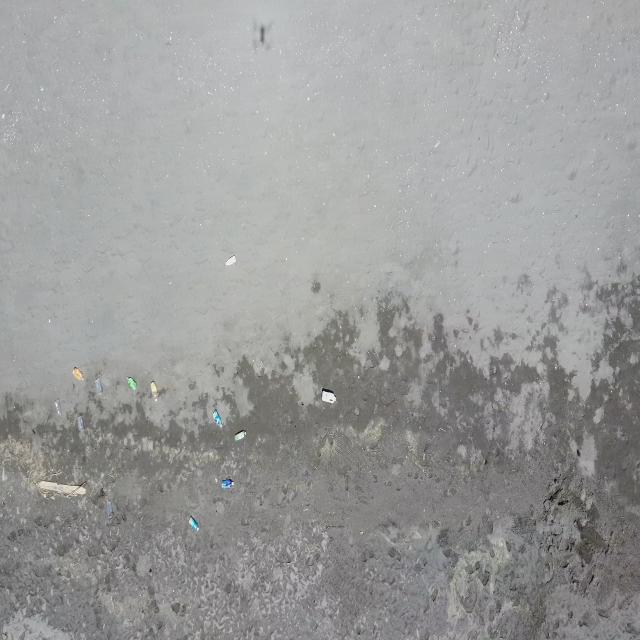plastic-bottle: (321, 387, 337, 404), (212, 409, 223, 429), (150, 380, 159, 403), (224, 252, 237, 267), (72, 365, 84, 381), (125, 375, 136, 392), (188, 516, 199, 532), (221, 478, 234, 491), (234, 428, 247, 441)
takeaway-cup: (76, 414, 85, 432), (54, 398, 62, 417), (94, 376, 102, 395), (106, 501, 113, 518)
